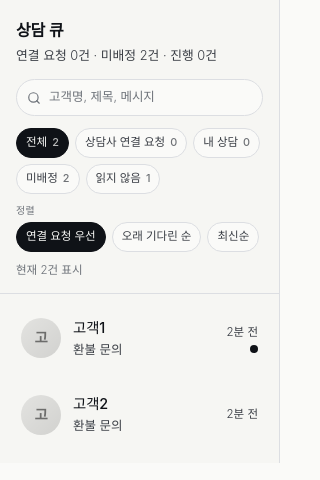
QueuePanel › 읽지 않음 필터를 선택하면 읽지 않은 세션만 표시한다
Click the button "읽지 않음 1": point(123, 179) [86, 164, 160, 194]
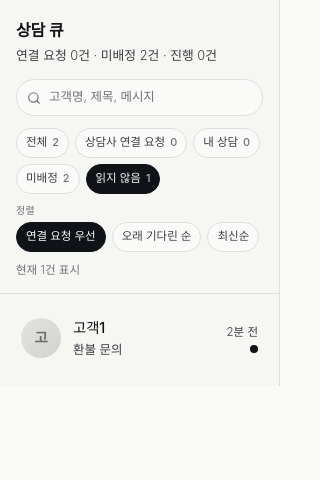
Expected: the text "고객1" is shown, [73, 317, 105, 339]
Expected: the button "고객2" is gone
